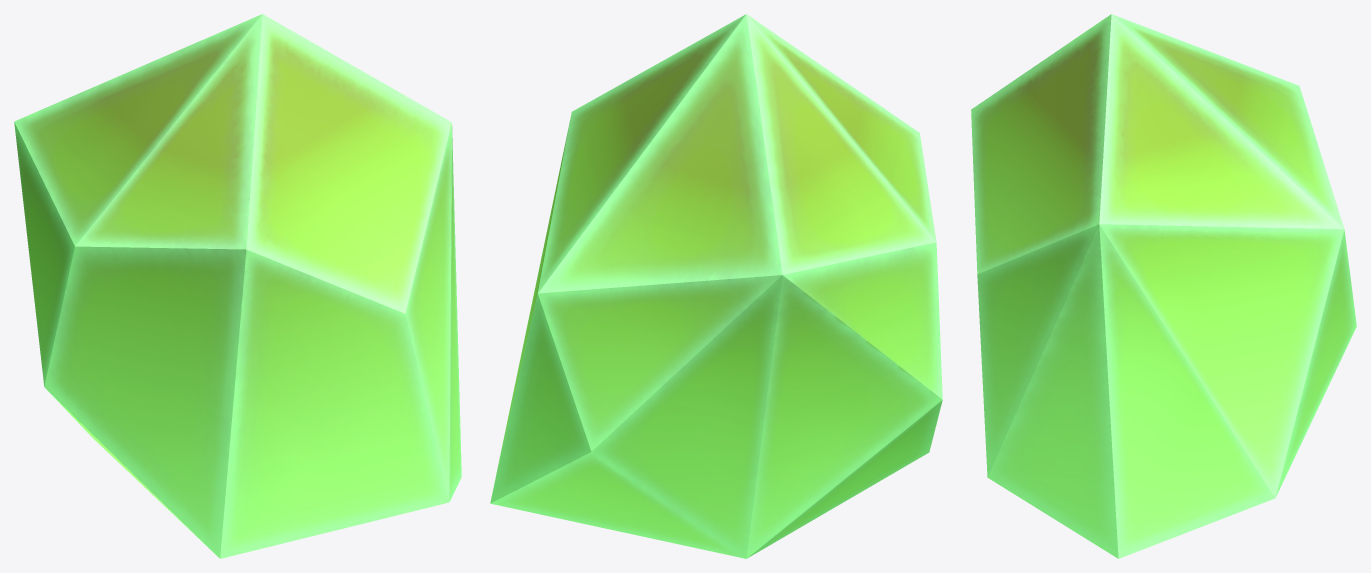
Rendered from crystal_piece_004.fbx.
The picture shows the model from 3 angles, left to right: view 1: azimuth 30°, elevation 25°; view 2: azimuth 150°, elevation 25°; view 3: azimuth 270°, elevation 25°; orthographic projection. The views are drawn at different scales.
Visible parts, largest first — view 1: crystal_piece_004; view 2: crystal_piece_004; view 3: crystal_piece_004.
Boxes of the visible parts, x1,y1,x2,y2 form: crystal_piece_004: (14,14,461,558); crystal_piece_004: (490,14,942,558); crystal_piece_004: (971,14,1356,558).
Size of the model in its own units: 0.6343 by 0.76 by 0.5813.
Materials: 1 (1 with a texture image).
